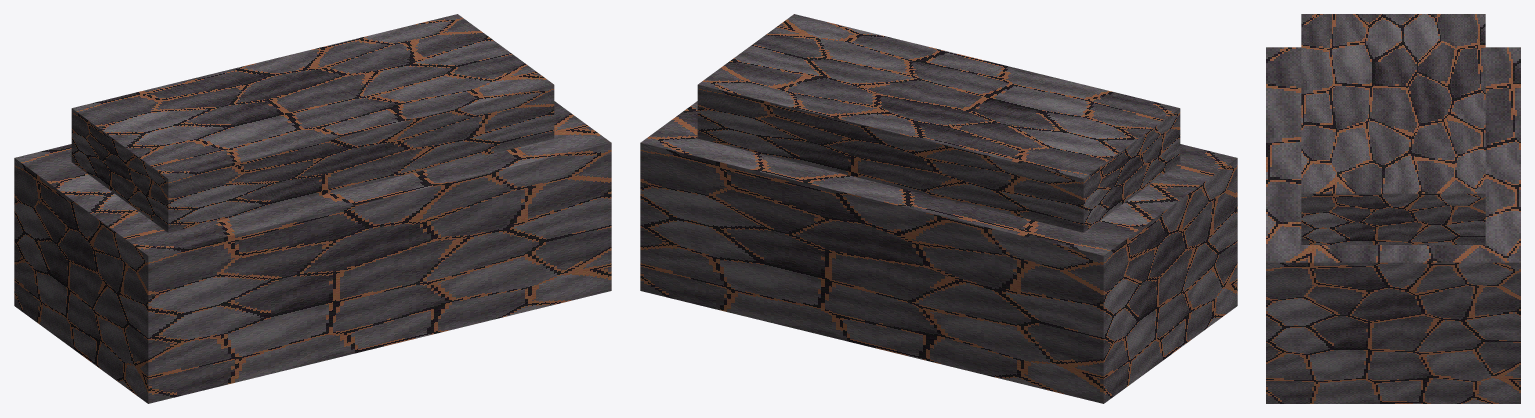
Rendered from molde_da_forja_das_cinzas.glb.
The picture shows the model from 3 angles, left to right: view 1: azimuth 30°, elevation 25°; view 2: azimuth 150°, elevation 25°; view 3: azimuth 270°, elevation 25°; orthographic projection. The views are drawn at different scales.
Parts seen in each view (by area): view 1: molde_da_forja_das_cinzas; view 2: molde_da_forja_das_cinzas; view 3: molde_da_forja_das_cinzas.
Part boxes in pixels (bbox=[...]): molde_da_forja_das_cinzas: bbox=[14, 14, 611, 403]; molde_da_forja_das_cinzas: bbox=[640, 14, 1237, 403]; molde_da_forja_das_cinzas: bbox=[1266, 14, 1520, 403].
Bounding box in the file's own units: 0.36 × 0.15 × 0.18.
Materials: 1 (1 with a texture image).
